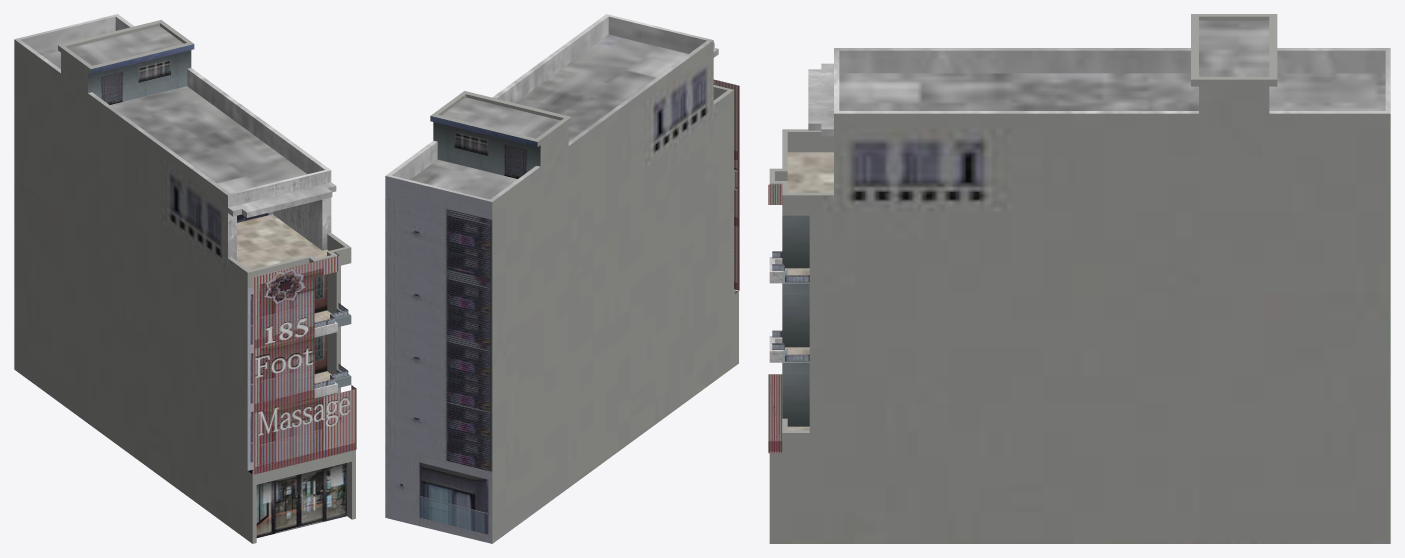
3 renders of one model, left to right at view 1: azimuth 30°, elevation 25°; view 2: azimuth 150°, elevation 25°; view 3: azimuth 270°, elevation 25°, orthographic. The views are drawn at different scales.
Visible parts, largest first — view 1: 5da3ff193d36541778a7e23d.001; view 2: 5da3ff193d36541778a7e23d.001; view 3: 5da3ff193d36541778a7e23d.001.
Boxes of the visible parts, x1,y1,x2,y2 form: 5da3ff193d36541778a7e23d.001: (14, 14, 356, 543); 5da3ff193d36541778a7e23d.001: (385, 14, 739, 543); 5da3ff193d36541778a7e23d.001: (768, 14, 1390, 543).
Size of the model in its own units: 6.02 by 19.79 by 24.06.
1 material, 1 textured.
